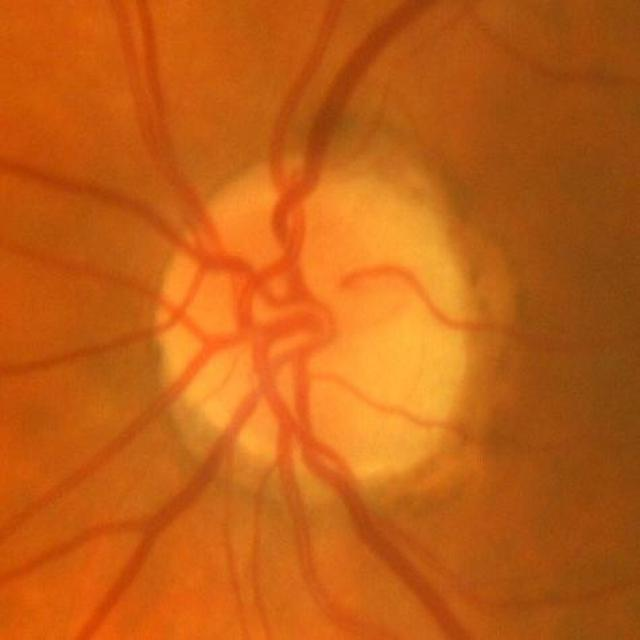OC: (238, 272, 337, 370)
OD: (159, 150, 478, 485)
